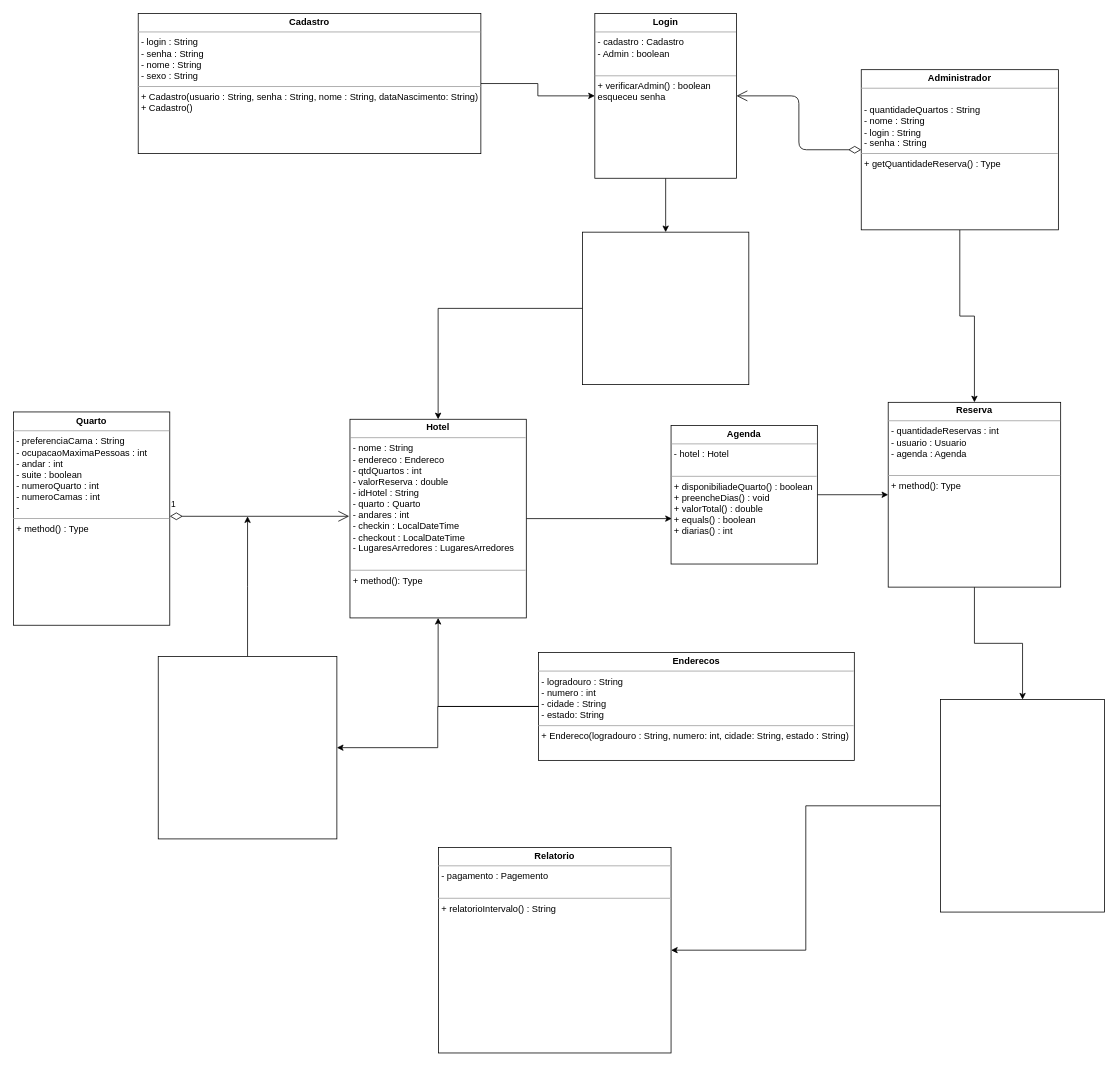
The diagram is 1118 pixels wide and 1066 high, and some of its shapes have lost their labels. Here are the shapes that lost their labels. From the top down, the box of each, then its label:
(582, 231, 749, 385): Usuario - cadastro : Cadastro perfil + method(): Type
(157, 656, 337, 839): LugaresArredores - nomeDoLugar : String - tipoDoLugar : String + method(): Type
(940, 699, 1105, 912): Pagamento - reserva: Reserva - tipoPagamento : String + method(): Type + a
